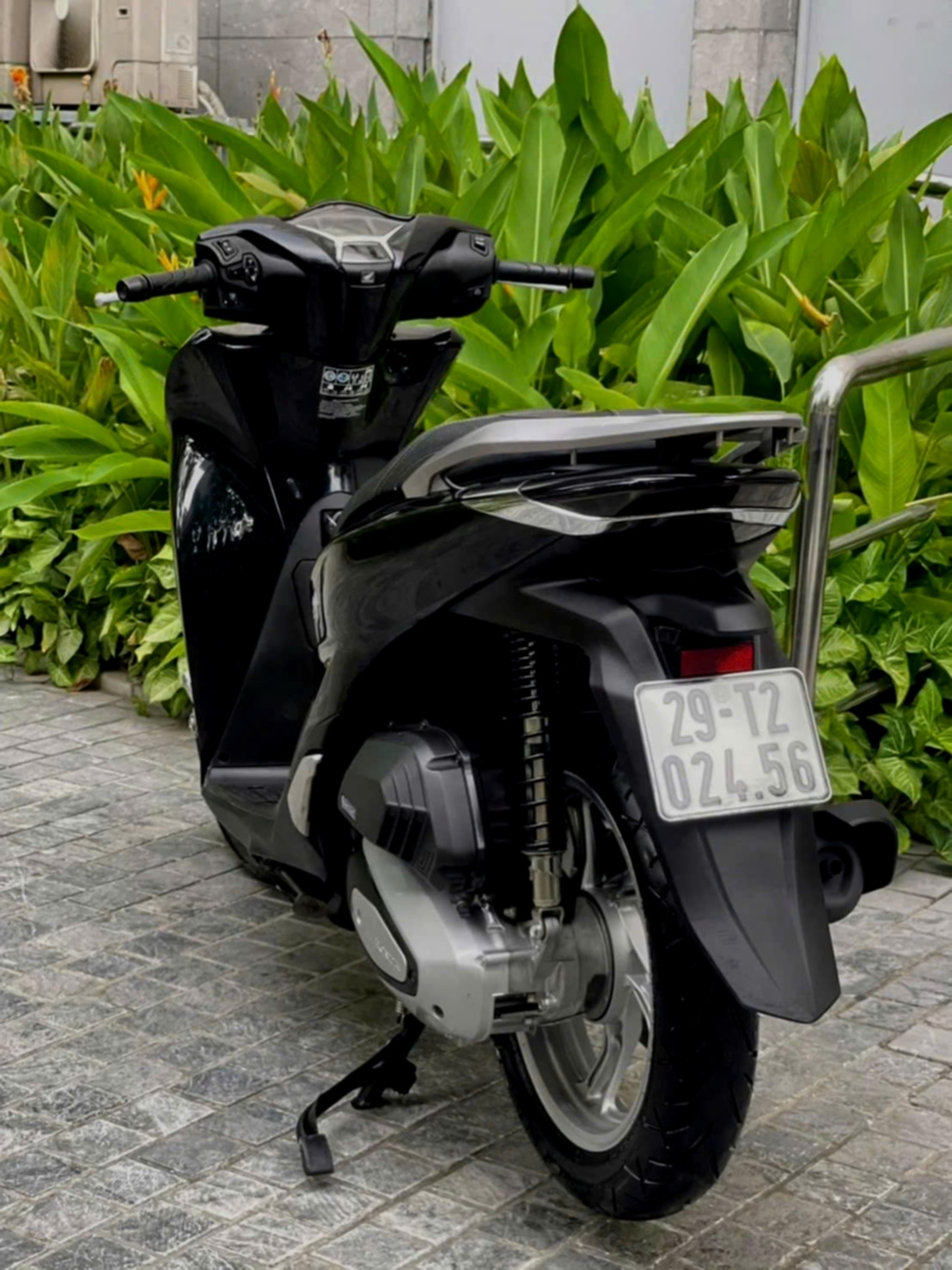Bien-so: (645, 696, 857, 880)
